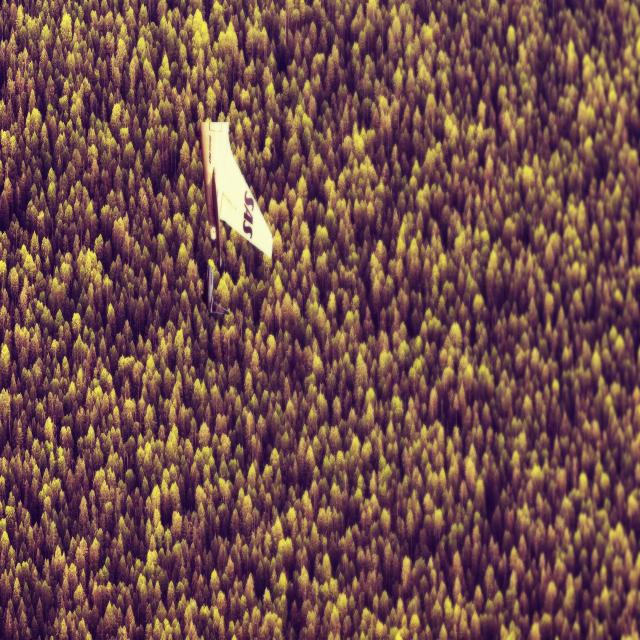airplane: (199, 122, 274, 266), (205, 264, 229, 316)
